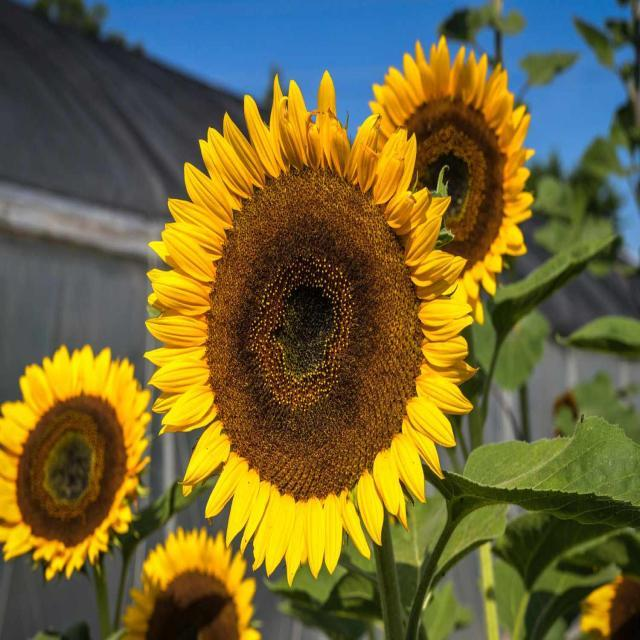sunflower: (143, 69, 479, 586), (358, 34, 534, 324), (0, 346, 152, 581), (122, 526, 260, 639), (578, 572, 640, 639), (552, 390, 579, 434)
